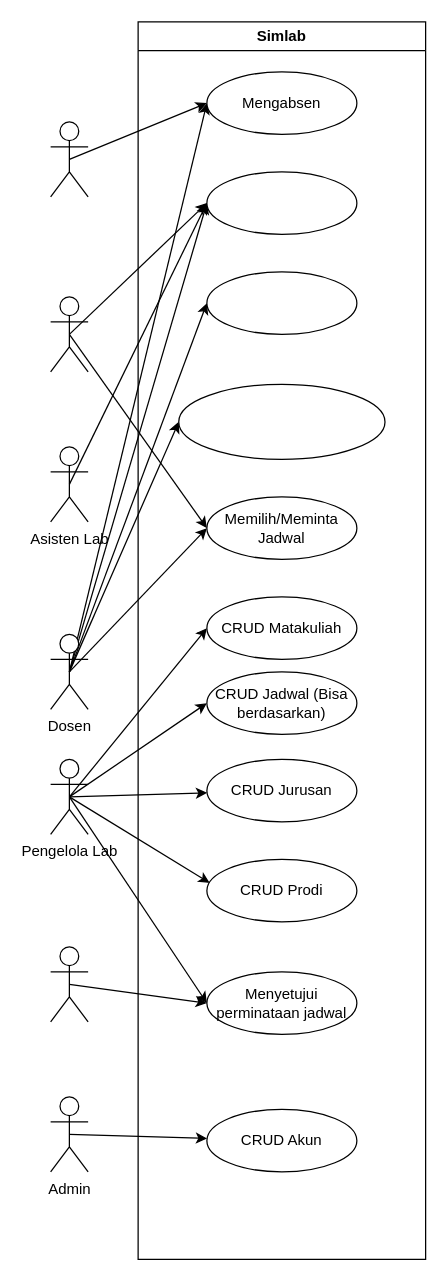
The diagram is 448 pixels wide and 1281 high, and some of its shapes have lost their labels. Here are the shapes that lost their labels. From the top down, the box of each, then its label:
(49, 121, 88, 197): Mahasiswa
(206, 171, 357, 234): Membuka Absen
(206, 271, 357, 334): Memilih Ketua Tingkat
(49, 296, 88, 372): Ketua Tingkat
(178, 383, 385, 459): Memilih Asisten Lab (Bisa berdasarkan rekomendasi sistem)
(49, 946, 88, 1022): Kepala Lab
